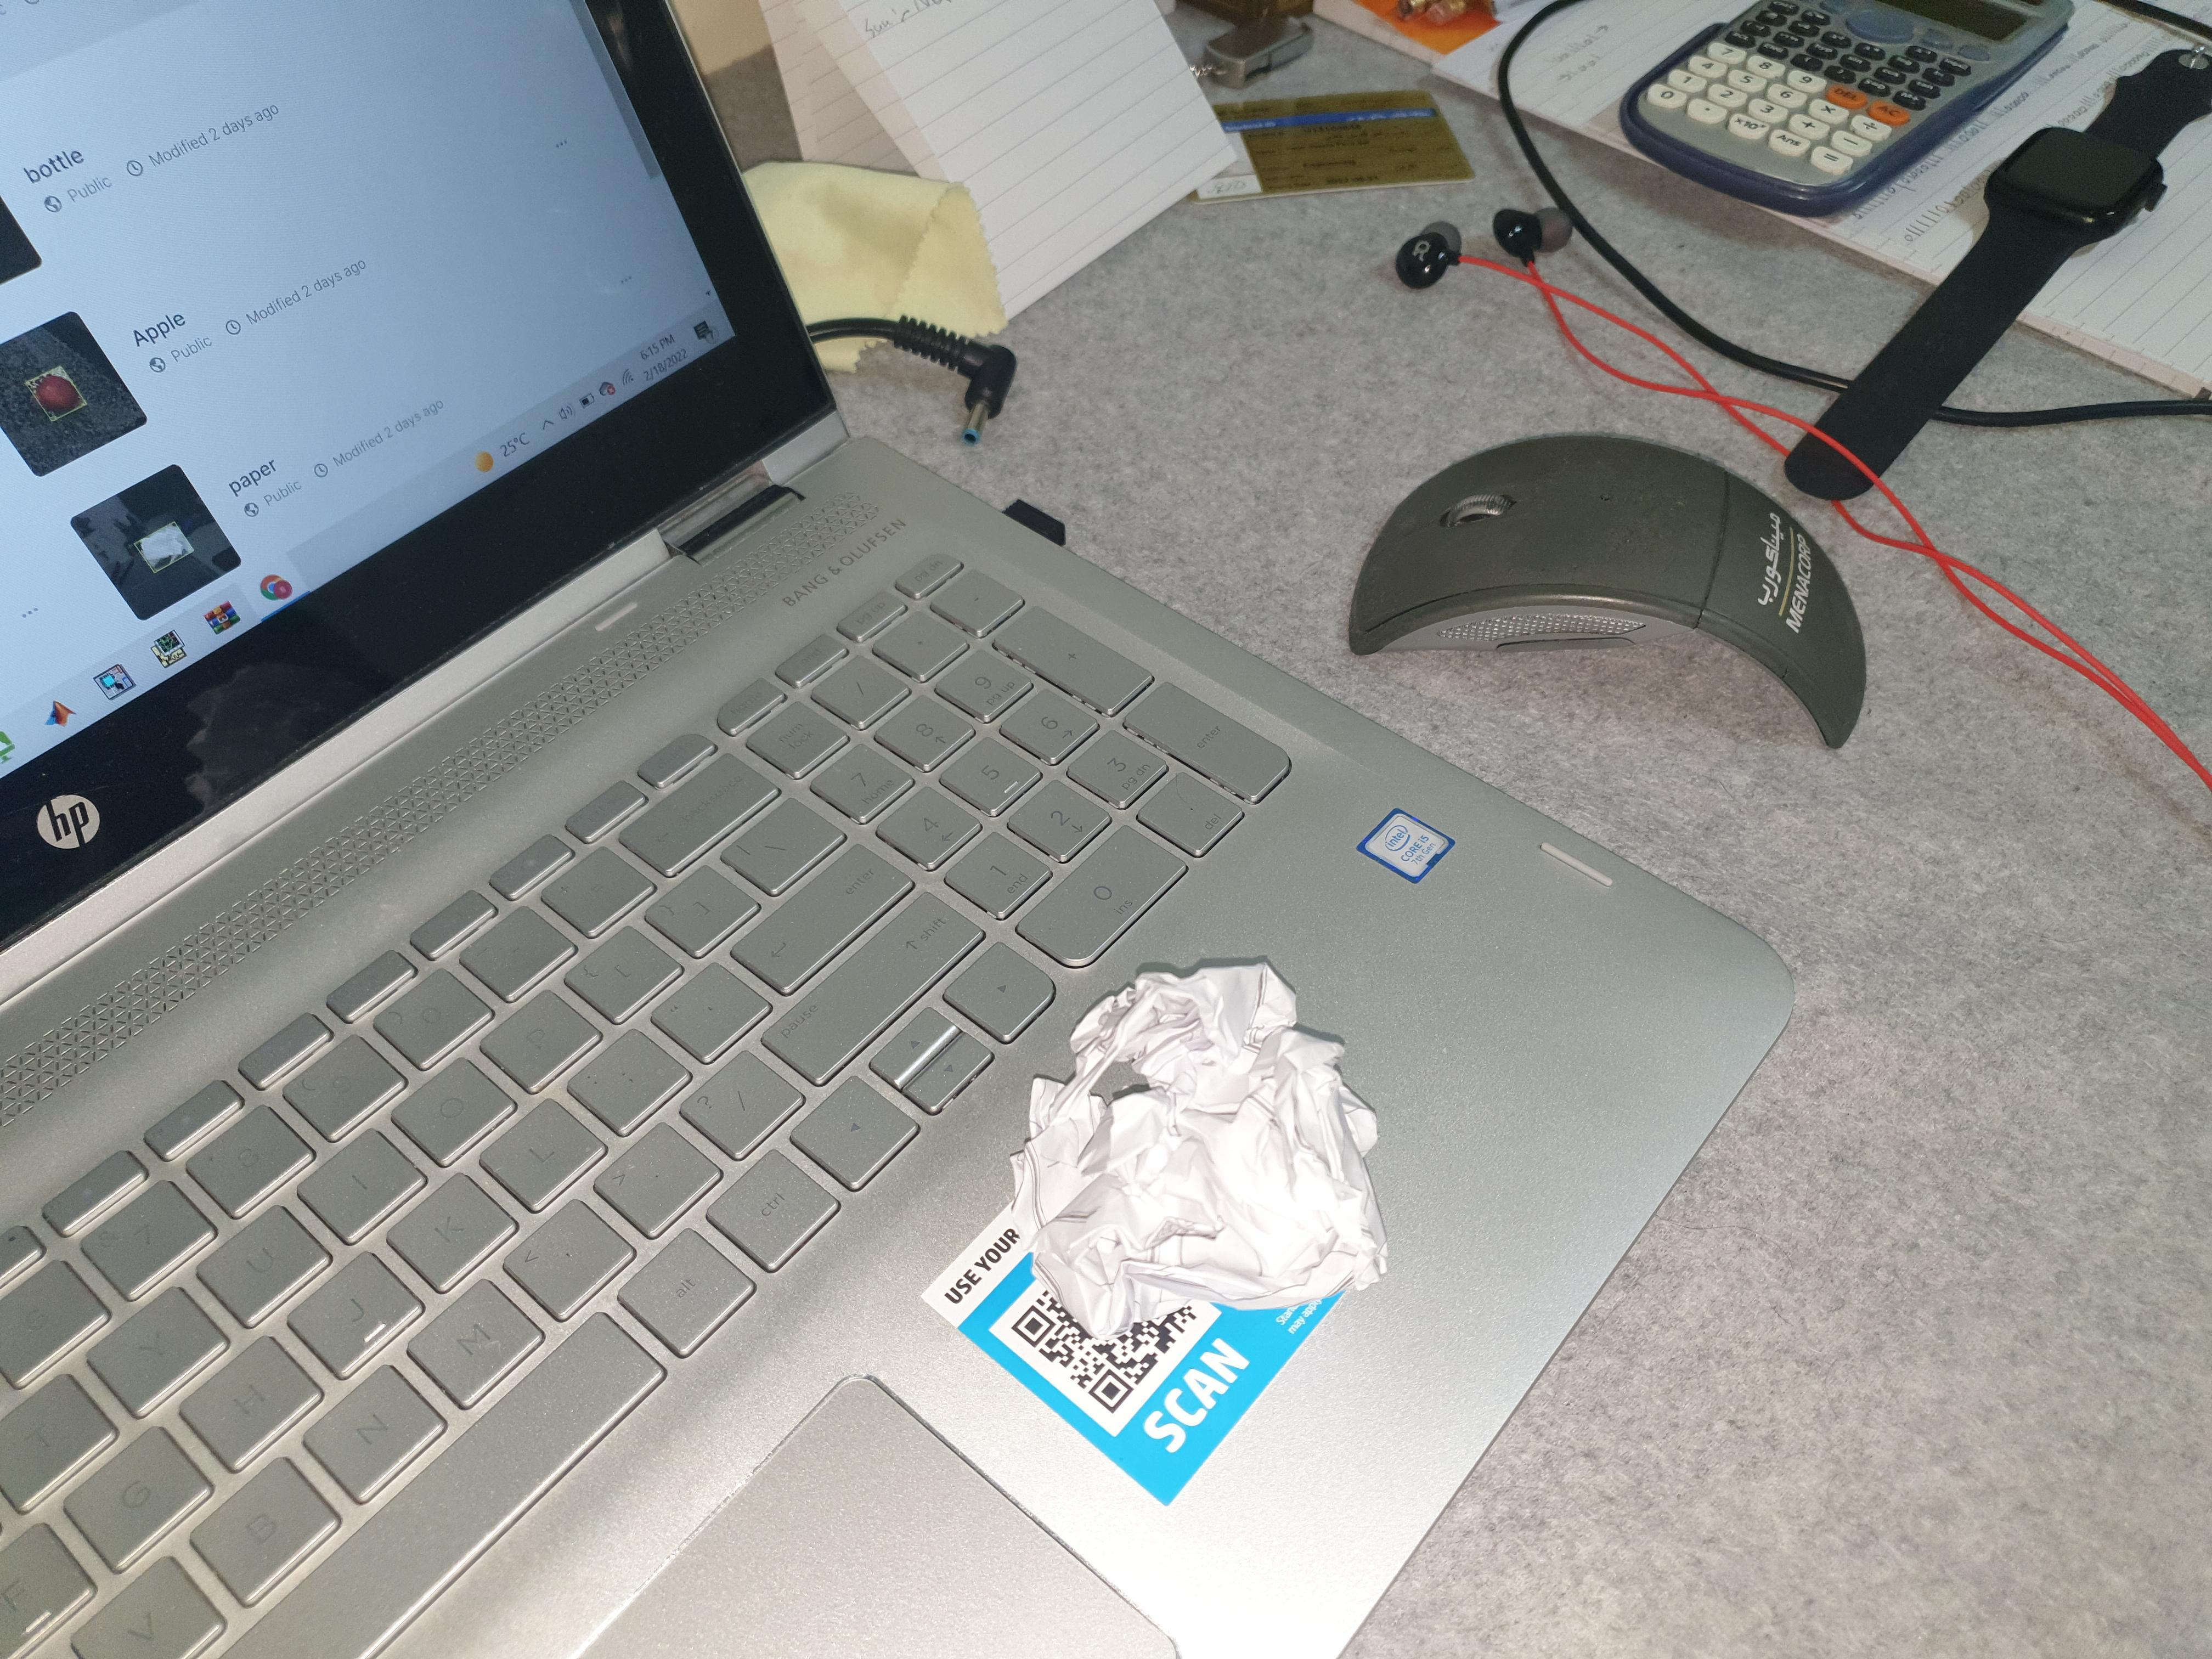Paper: (962, 917, 1417, 1373)
